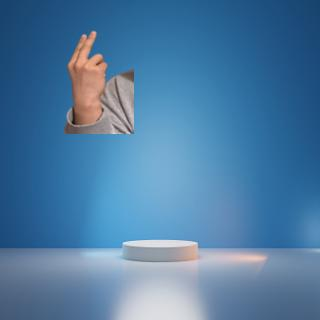DHAVE: (65, 27, 111, 106)
